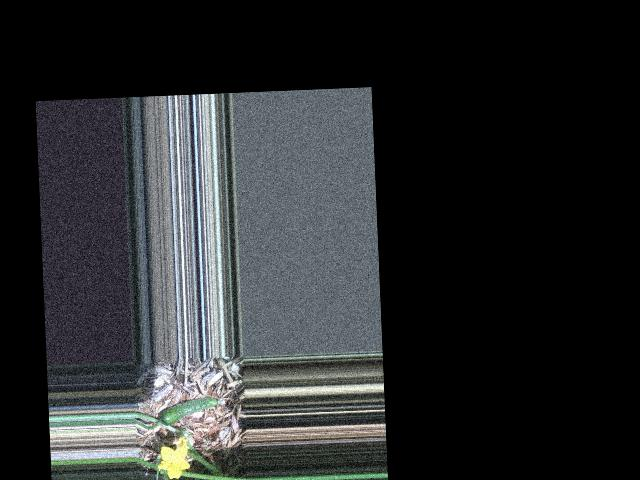cucumber: (158, 396, 224, 426)
